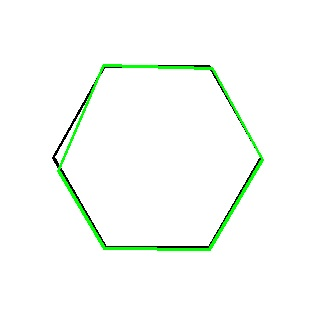line_segment: (52, 64, 263, 250)
